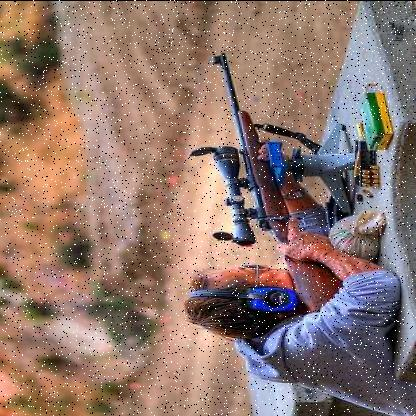rifle: (172, 40, 362, 320)
